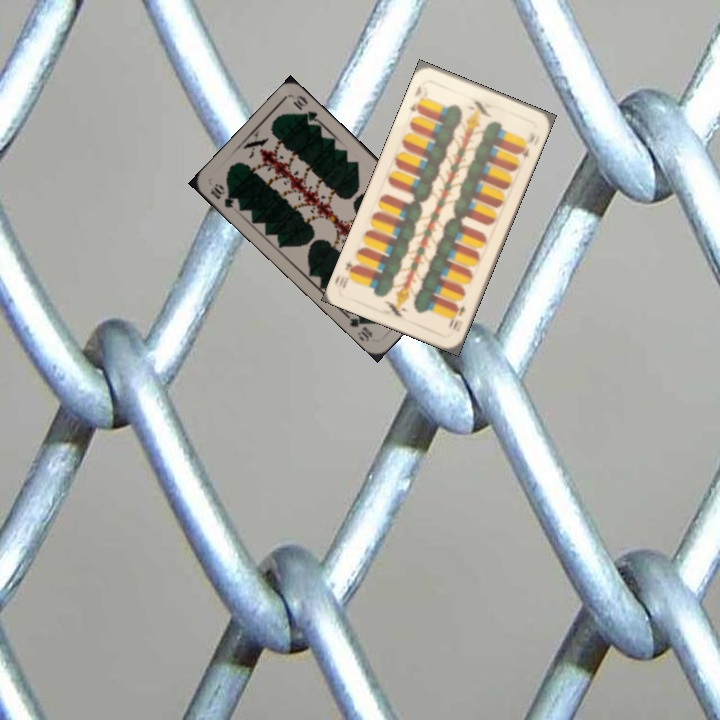E10: (445, 301, 468, 333), (405, 81, 425, 116)
G10: (206, 179, 238, 211)
